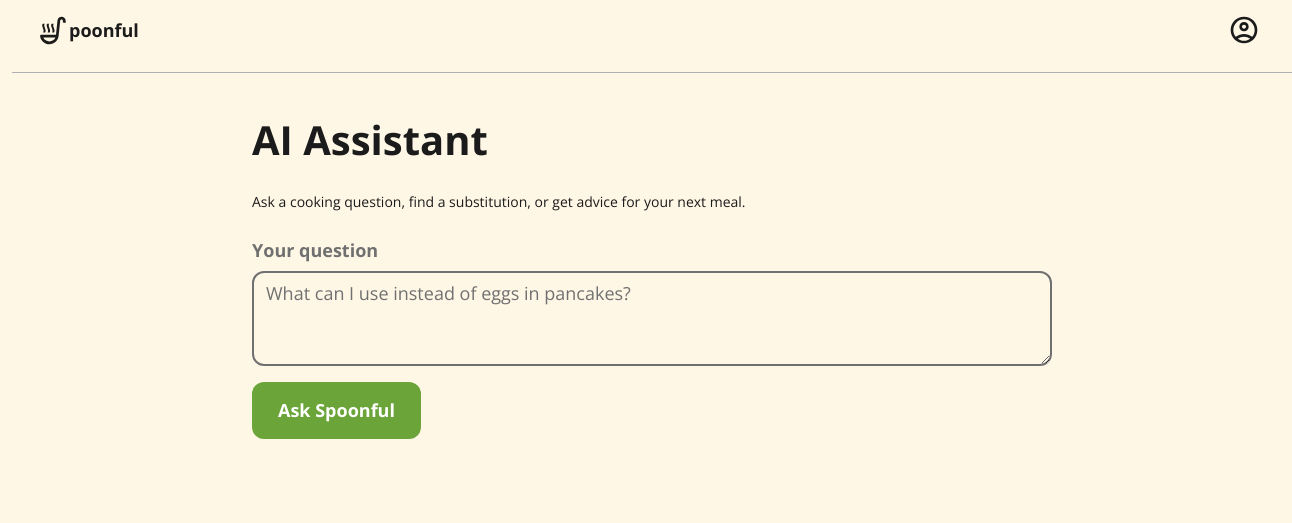
rejects an empty guest prompt before contacting the backend
Click the button "Ask Spoonful" at (336, 410), box [252,382,421,439]
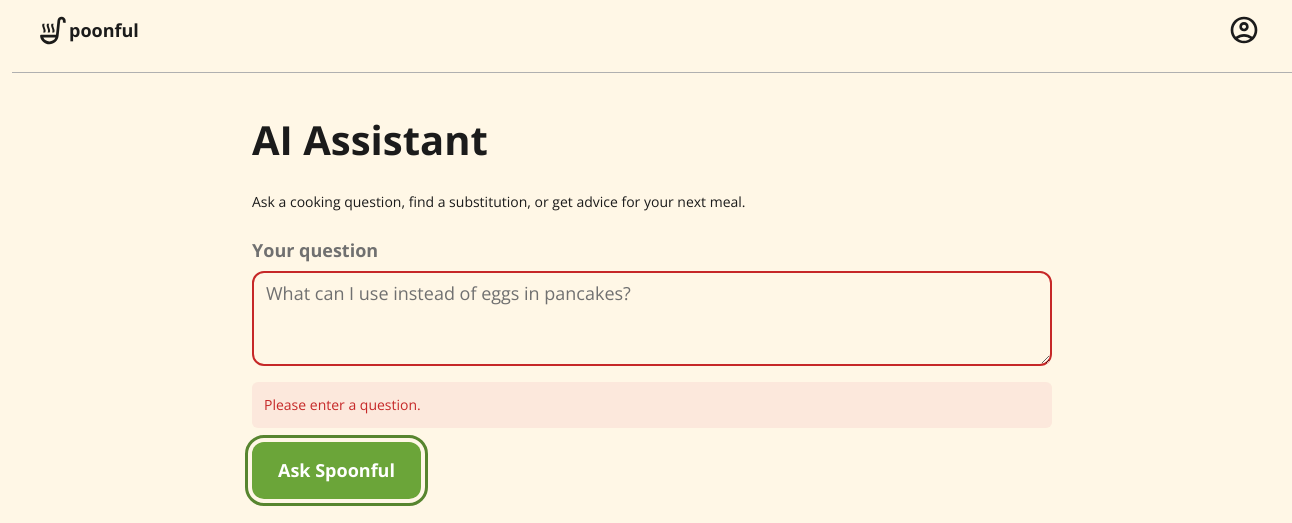
Expected: the message reads "Please enter a question.", [264,395,421,414]
